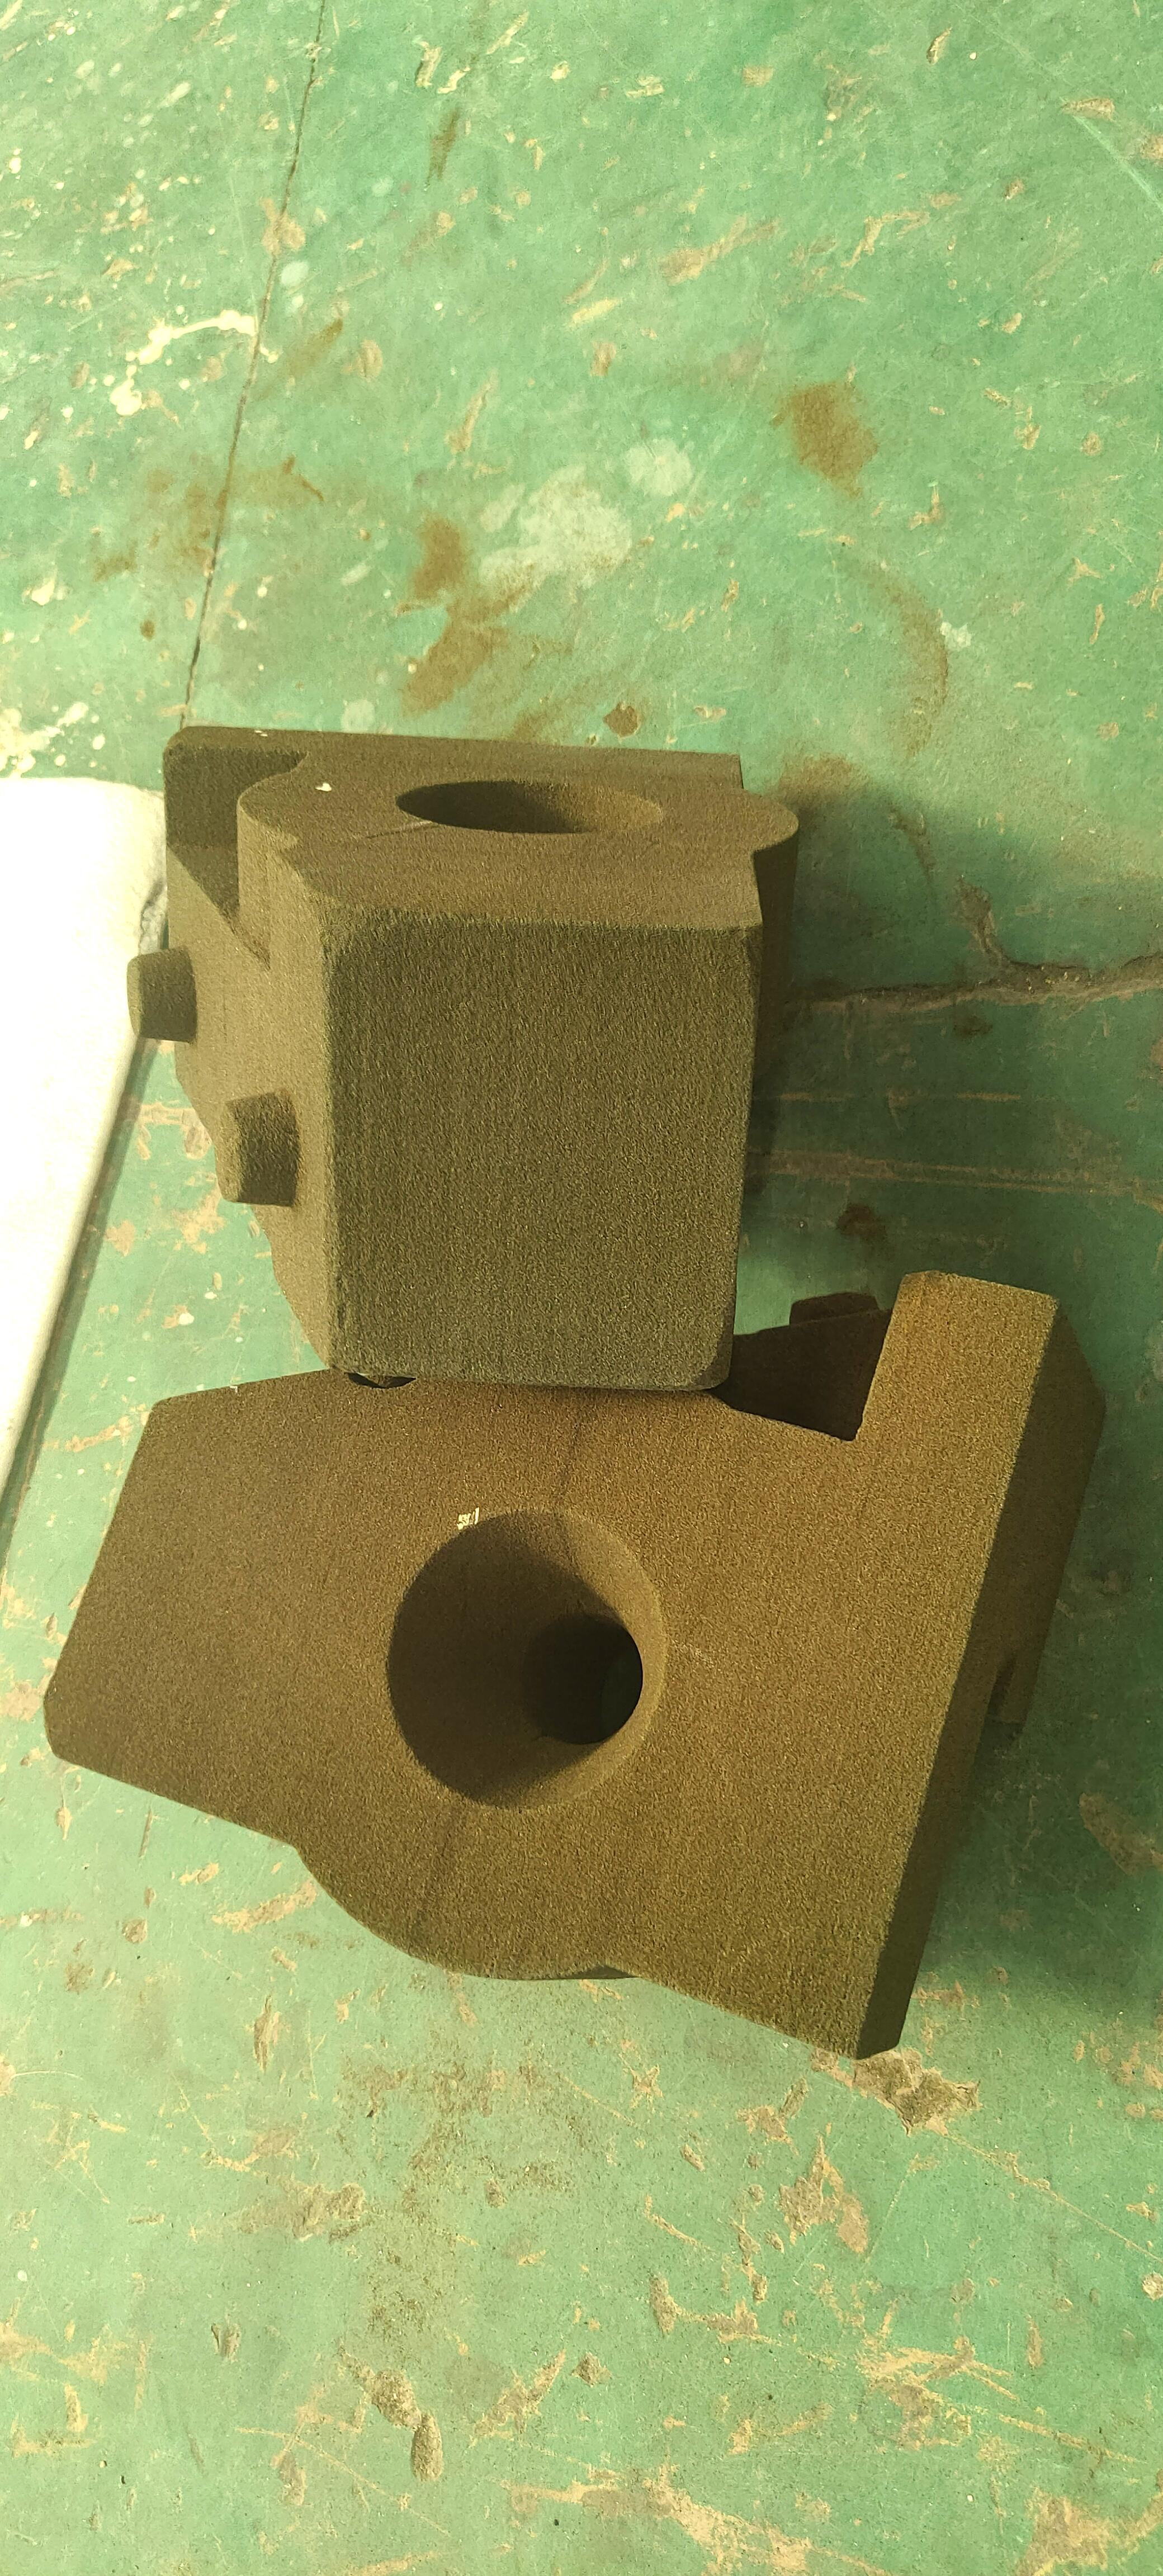pouring hole: (384, 1510, 665, 1815), (394, 775, 673, 841)
